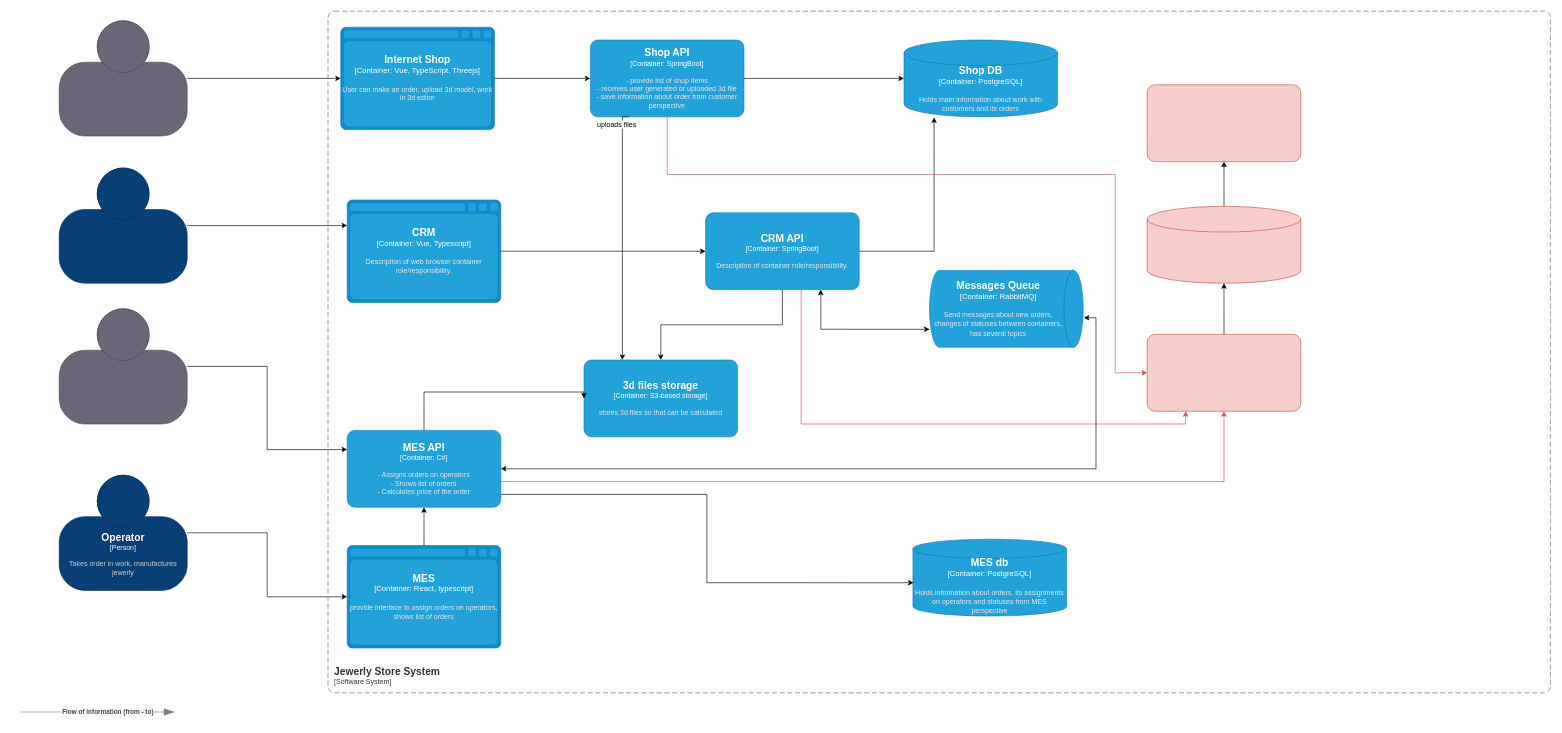
Some shapes in this 1562 by 733 pixel diagram are drawn without their labels. Here are the shapes that lost their labels. From the top down, the centre of each, then its label:
[123,78]: Customer [Person] Description of external person.
[1224,123]: Loging [Container: Kibana]
[123,225]: Seller [Person] Operates with order, confirms manufacturing for the user
[1224,244]: OpenSearch DB [Container: OpenSearch]
[123,366]: API user [Person] Description of external person.
[1224,372]: Loging [Container: Logstash]
